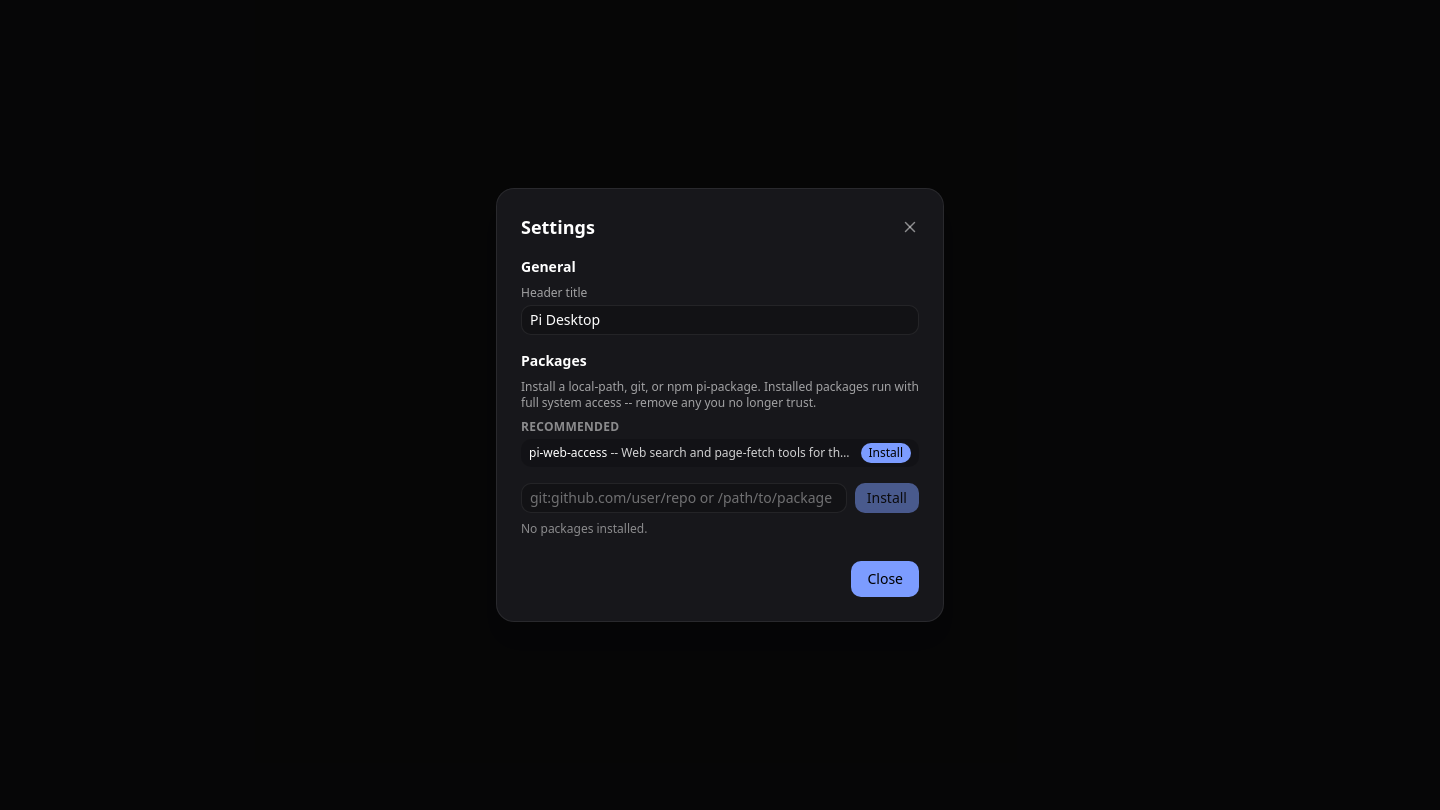
Test: SettingsDialog recommended packages › installs the recommended package when Install is clicked and refreshes to Installed
Click the button "Install" in the row of "pi-web-access" at (886, 453), box [860, 443, 911, 463]
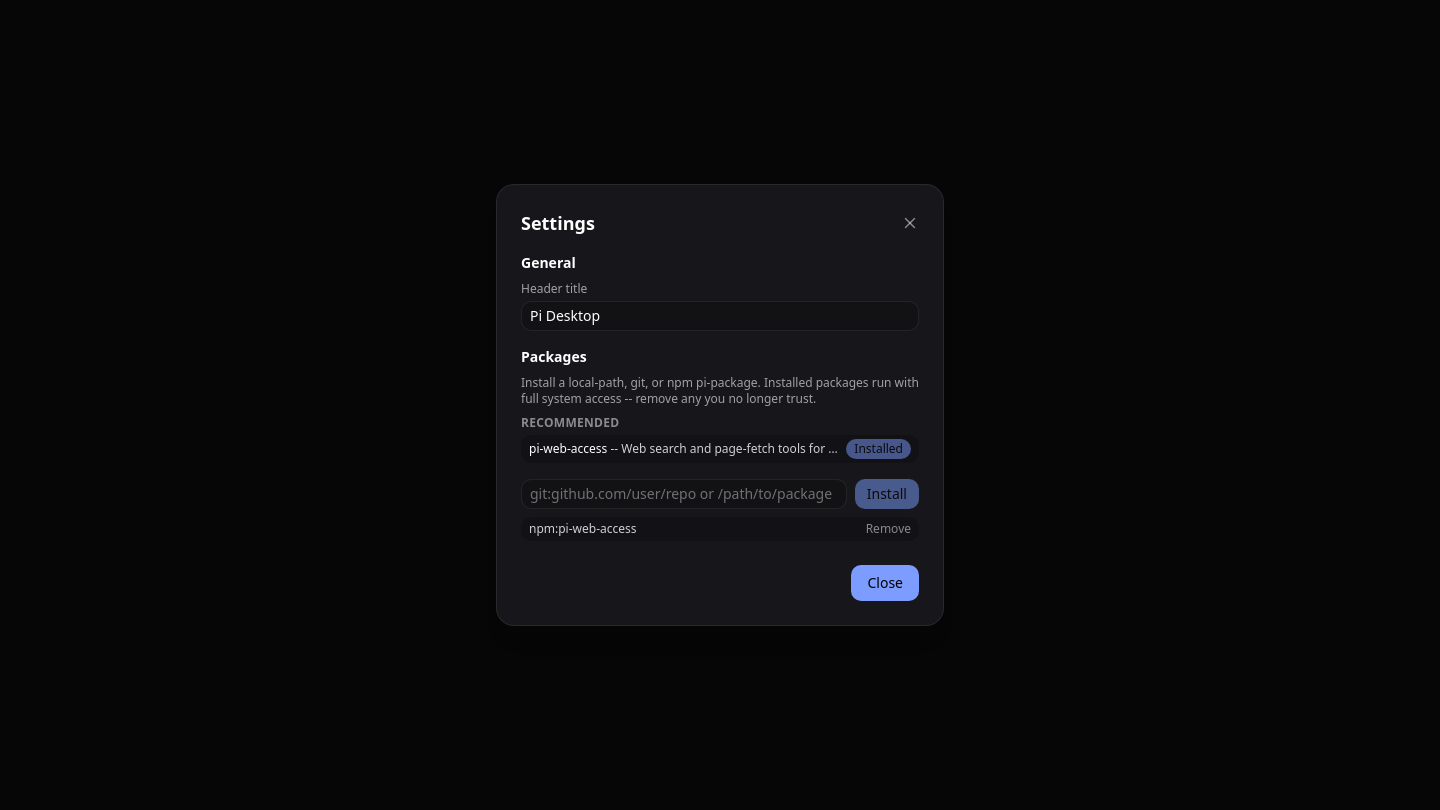
expect the button "Installed" is disabled: met, box [846, 439, 911, 459]
